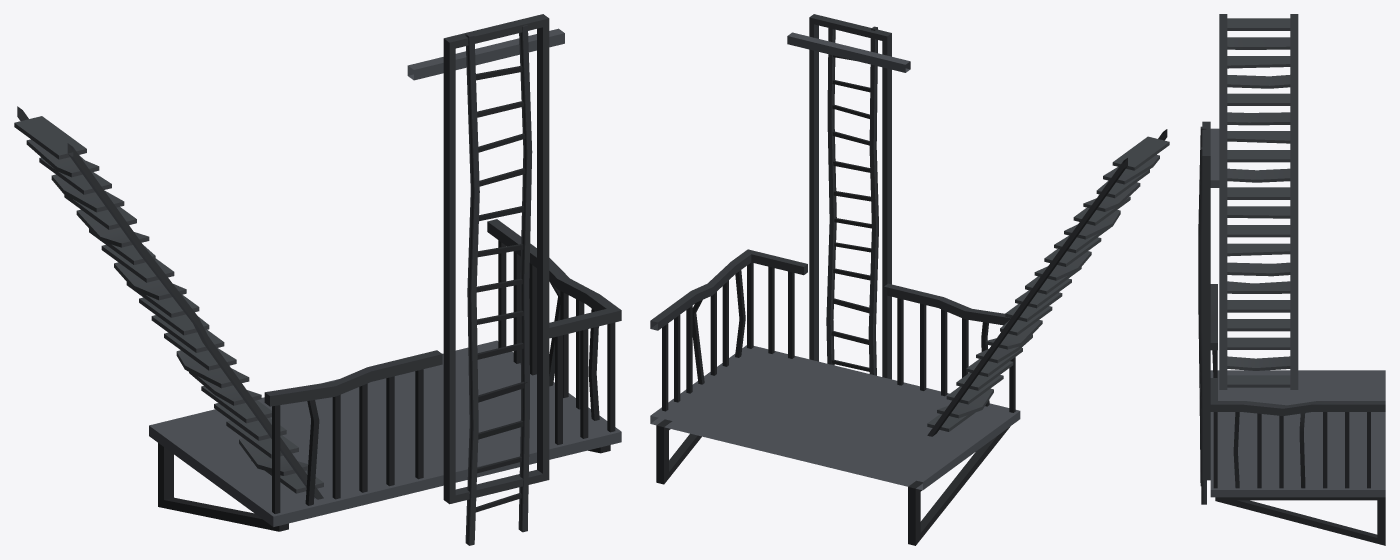
File: SM_Bld_FireEscape_03.glb
3 renders of one model, left to right at view 1: azimuth 30°, elevation 25°; view 2: azimuth 150°, elevation 25°; view 3: azimuth 270°, elevation 25°, orthographic. The views are drawn at different scales.
Parts seen in each view (by area): view 1: SM_Bld_FireEscape_03; view 2: SM_Bld_FireEscape_03; view 3: SM_Bld_FireEscape_03.
Boxes of the visible parts, <box> form: SM_Bld_FireEscape_03: <box>14,14,621,545</box>; SM_Bld_FireEscape_03: <box>650,14,1169,545</box>; SM_Bld_FireEscape_03: <box>1198,14,1385,545</box>.
Bounding box in the file's own units: 0.0425 × 0.038 × 0.0176.
1 material, 1 textured.
